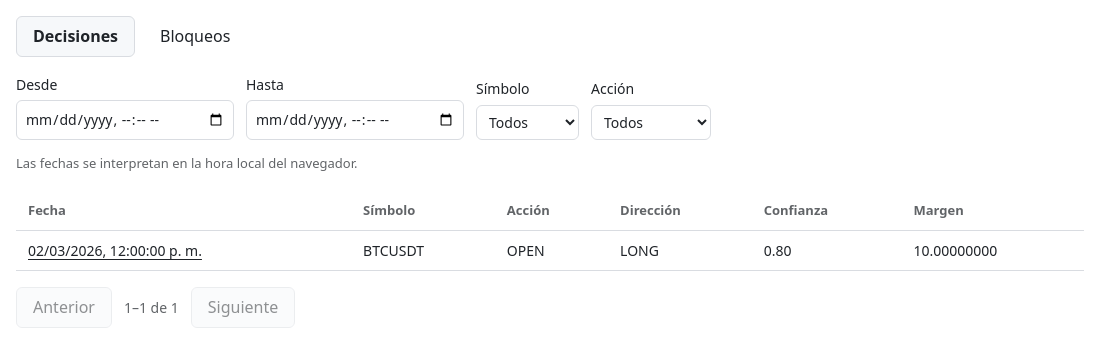
Scenario: History › defaults the blocks tab to result=BLOCK
The width and height of the screenshot is (1101, 345).
Click the tab "Bloqueos": (195, 37) [143, 16, 247, 57]
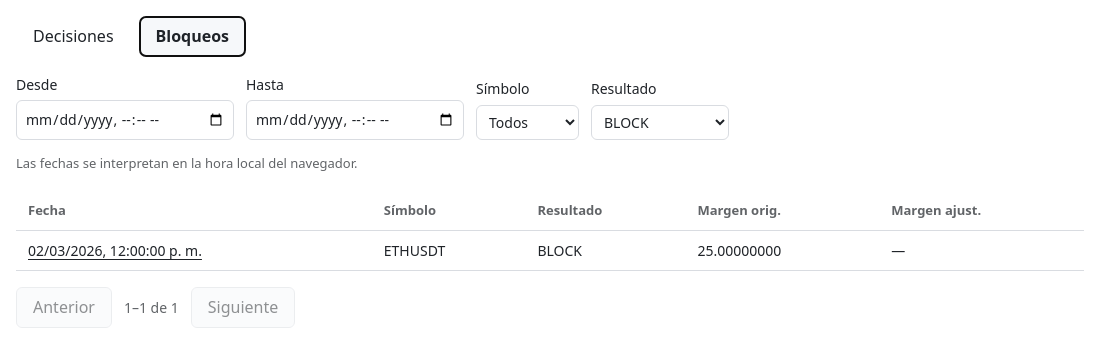
Now the dropdown labelled "Resultado" shows "BLOCK", box [591, 105, 729, 140]
